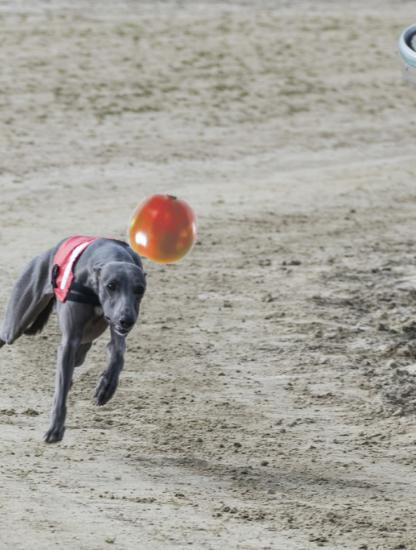Tomato: (127, 193, 200, 266)
